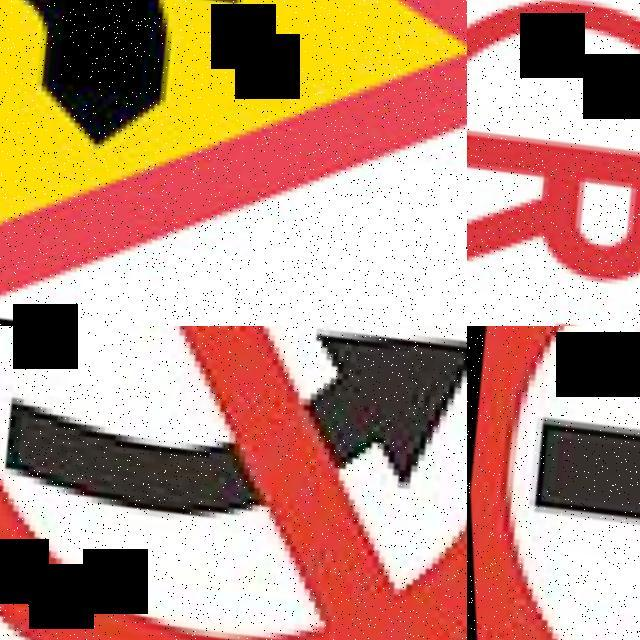105: (467, 0, 640, 326)
166: (0, 0, 467, 326)
No entry: (467, 326, 640, 640)
No passing: (0, 326, 467, 640)
